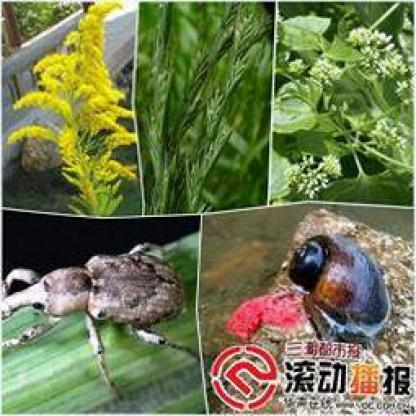rice-bug: (0, 243, 186, 346)
